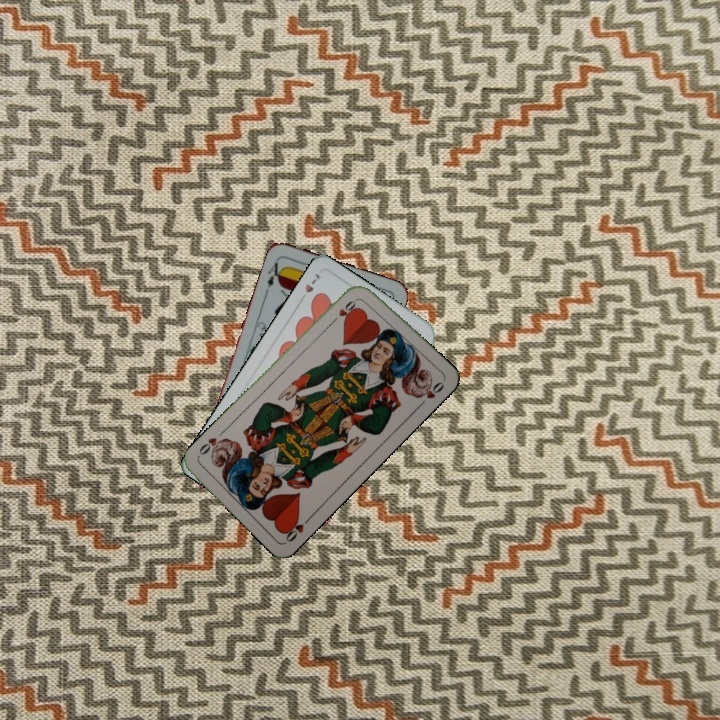EA: (261, 255, 286, 295)
H7: (296, 269, 323, 305)
HO: (280, 512, 314, 544), (328, 294, 361, 326)
